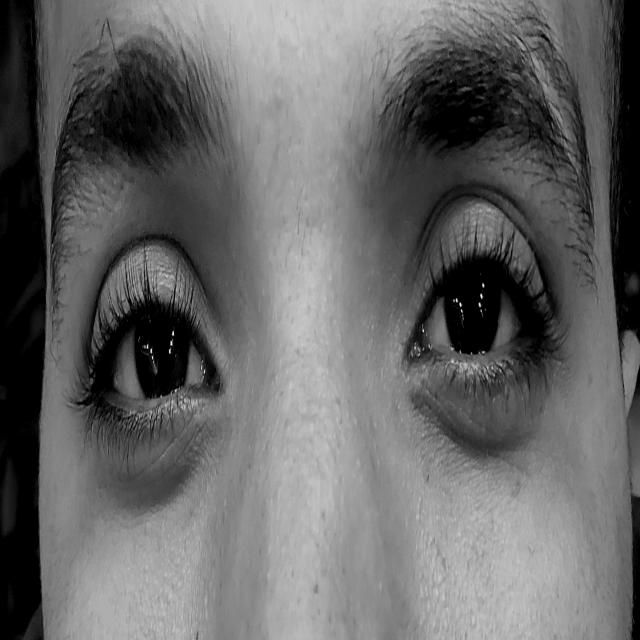real: (57, 54, 599, 548)
